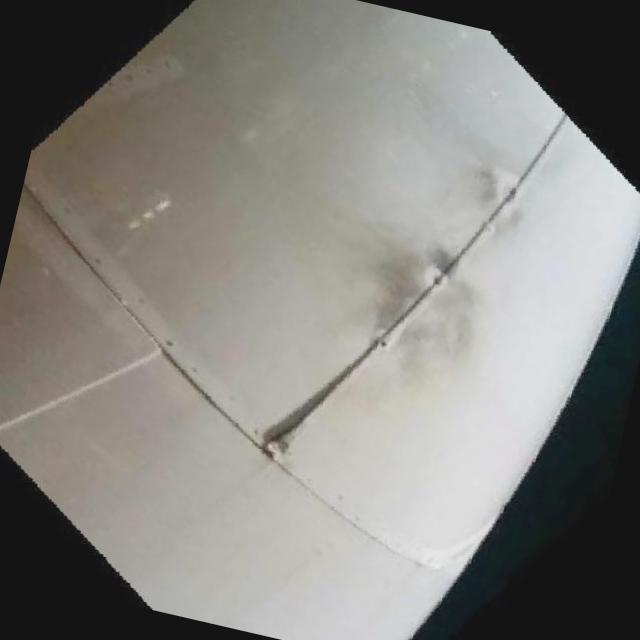crack: (320, 326, 382, 409), (266, 393, 314, 458)
